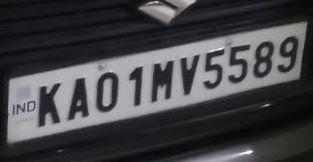0: (96, 71, 122, 113)
1: (126, 63, 145, 109)
5: (203, 45, 226, 93), (229, 42, 251, 85)
8: (255, 40, 275, 81)
9: (278, 36, 301, 77)
A: (67, 71, 93, 122)
K: (34, 81, 65, 130)
M: (149, 60, 176, 102)
V: (179, 53, 200, 98)
